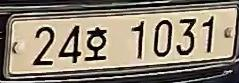0: (152, 17, 175, 59)
1: (199, 14, 219, 55), (129, 17, 147, 61)
2: (29, 24, 57, 68)
3: (175, 16, 199, 57)
4: (57, 22, 84, 68)
호: (83, 23, 109, 62)
